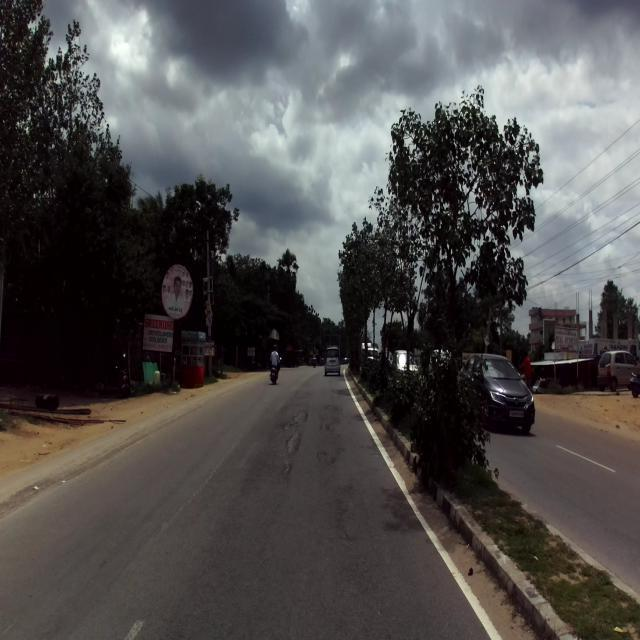Pothole: (259, 382, 337, 495)
